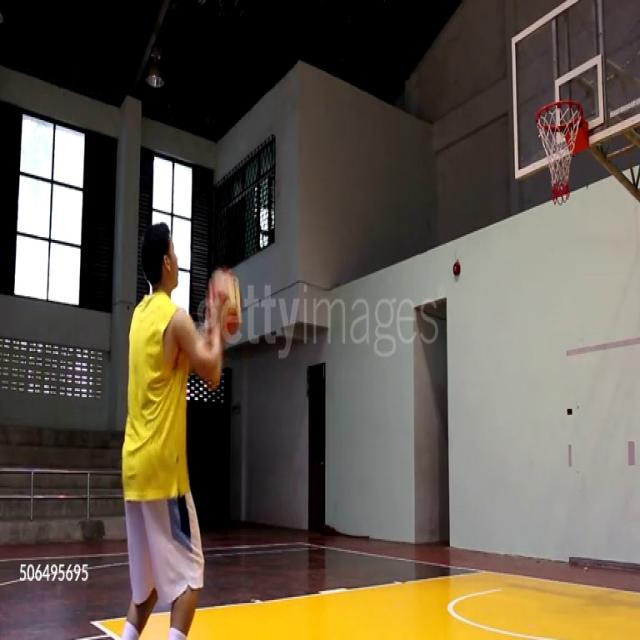ball: (205, 265, 243, 341)
